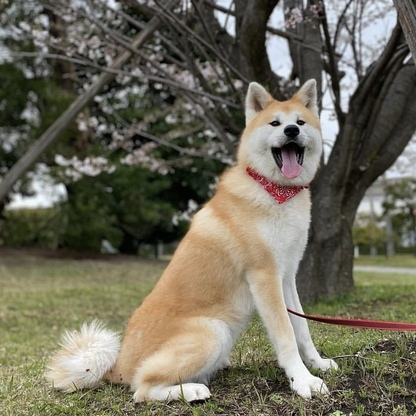akita: (36, 71, 346, 407)
